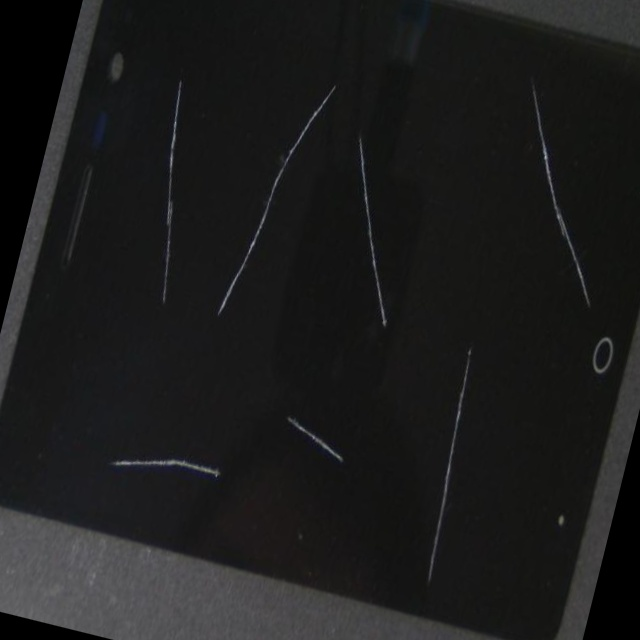scratch: (152, 184, 554, 640), (85, 211, 409, 640), (186, 392, 621, 640), (228, 206, 570, 468), (194, 0, 459, 287), (366, 193, 640, 350), (133, 0, 269, 120)
